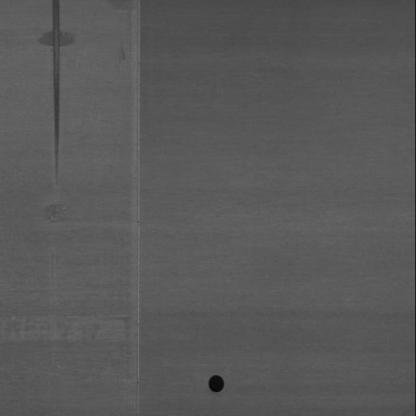crease: (34, 0, 75, 181)
oil_spot: (39, 29, 77, 48)
punching_hole: (204, 371, 232, 397)
welding_line: (129, 0, 156, 413)
